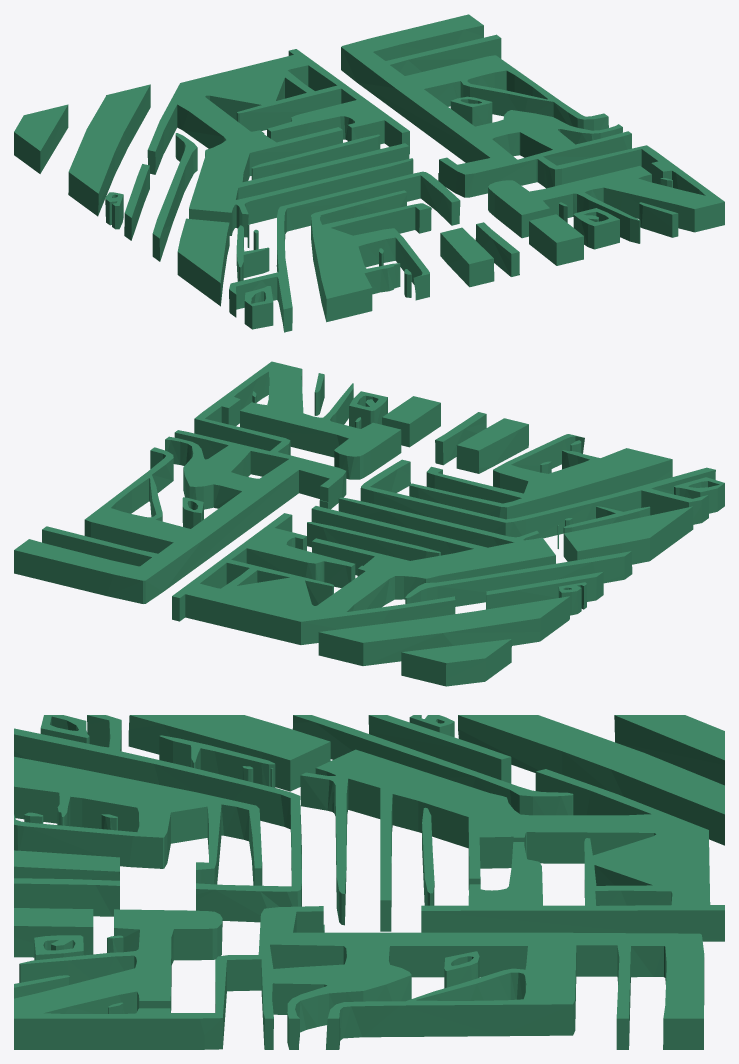
File: standard.gltf
The picture shows the model from 3 angles, top to bottom: view 1: azimuth 30°, elevation 25°; view 2: azimuth 150°, elevation 25°; view 3: azimuth 270°, elevation 25°; orthographic projection. The views are drawn at different scales.
Parts seen in each view (by area): view 1: Mesh_Mesh_head_geo.001_lambert2SG.001; view 2: Mesh_Mesh_head_geo.001_lambert2SG.001; view 3: Mesh_Mesh_head_geo.001_lambert2SG.001.
Part boxes in pixels (x1=…): Mesh_Mesh_head_geo.001_lambert2SG.001: x1=14, y1=14, x2=724, y2=332; Mesh_Mesh_head_geo.001_lambert2SG.001: x1=14, y1=361, x2=724, y2=686; Mesh_Mesh_head_geo.001_lambert2SG.001: x1=14, y1=715, x2=724, y2=1049.
Size of the model in its own units: 208 by 10 by 206.
